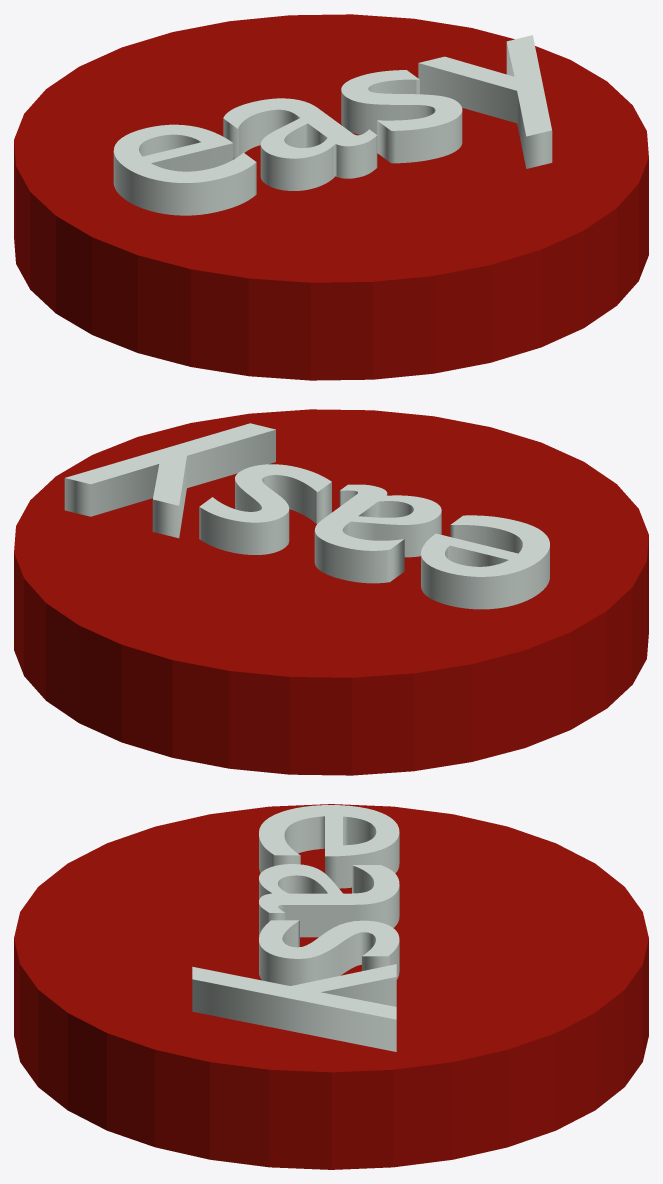
File: easy.fbx
The picture shows the model from 3 angles, top to bottom: view 1: azimuth 30°, elevation 25°; view 2: azimuth 150°, elevation 25°; view 3: azimuth 270°, elevation 25°; orthographic projection.
Parts seen in each view (by area): view 1: Cylinder, Text; view 2: Cylinder, Text; view 3: Cylinder, Text.
Boxes of the visible parts, x1,y1,x2,y2 form: Cylinder: [14, 14, 648, 380]; Text: [113, 35, 552, 215]; Cylinder: [14, 409, 648, 775]; Text: [64, 423, 549, 609]; Cylinder: [14, 804, 648, 1169]; Text: [192, 805, 399, 1051].
Size of the model in its own units: 354 by 80.04 by 354.
